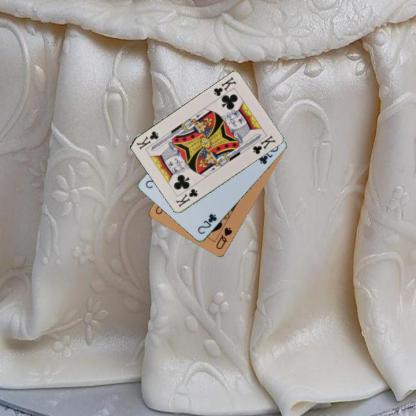2c: (195, 211, 218, 236)
Kc: (211, 74, 237, 98), (173, 186, 199, 209)
Qs: (214, 225, 234, 251)
